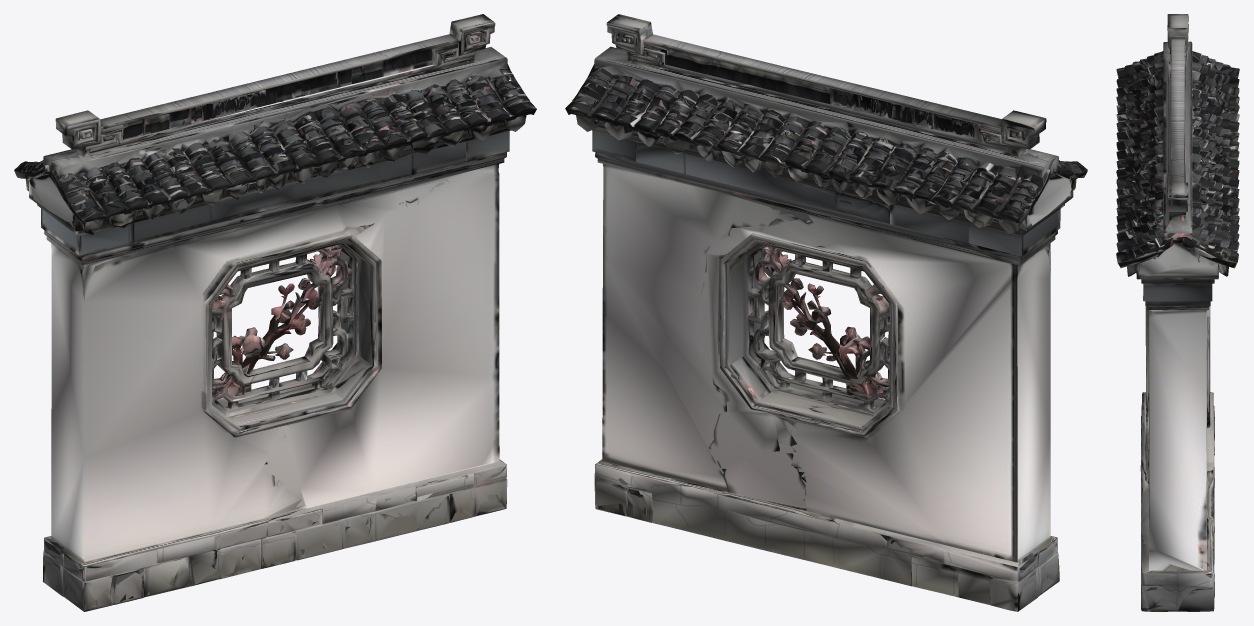
File: wallWindow-compressed.glb
3 renders of one model, left to right at view 1: azimuth 30°, elevation 25°; view 2: azimuth 150°, elevation 25°; view 3: azimuth 270°, elevation 25°, orthographic. The views are drawn at different scales.
Parts seen in each view (by area): view 1: node_0; view 2: node_0; view 3: node_0.
Boxes of the visible parts, left/top/right/bottom form: node_0: left=14, top=14, right=536, bottom=611; node_0: left=565, top=14, right=1087, bottom=611; node_0: left=1116, top=14, right=1239, bottom=611.
Size of the model in its own units: 2.8 by 2.8 by 0.7507.
Materials: 1 (1 with a texture image).
